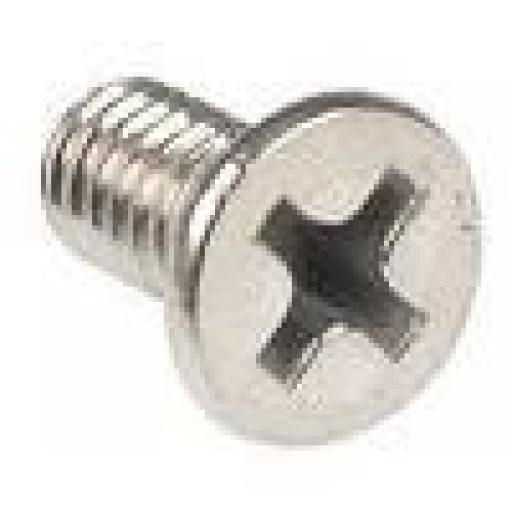Phillips: (168, 82, 483, 447)
